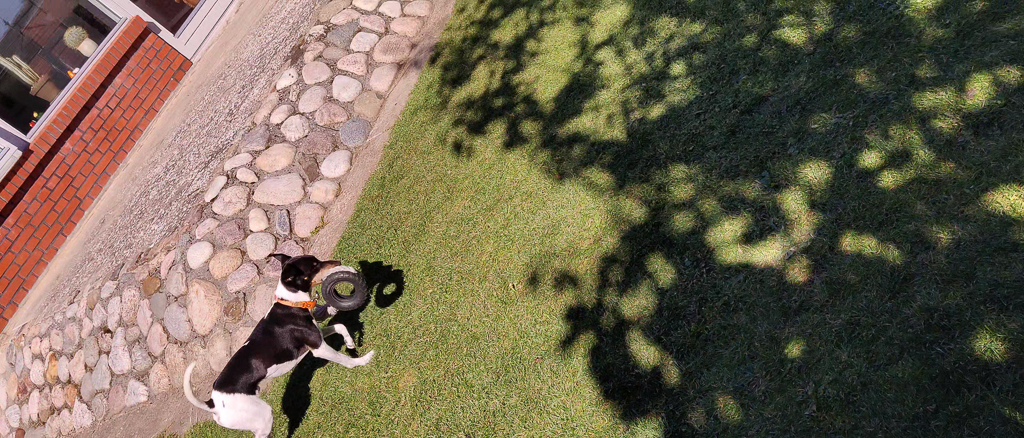Dog: (179, 245, 388, 438)
